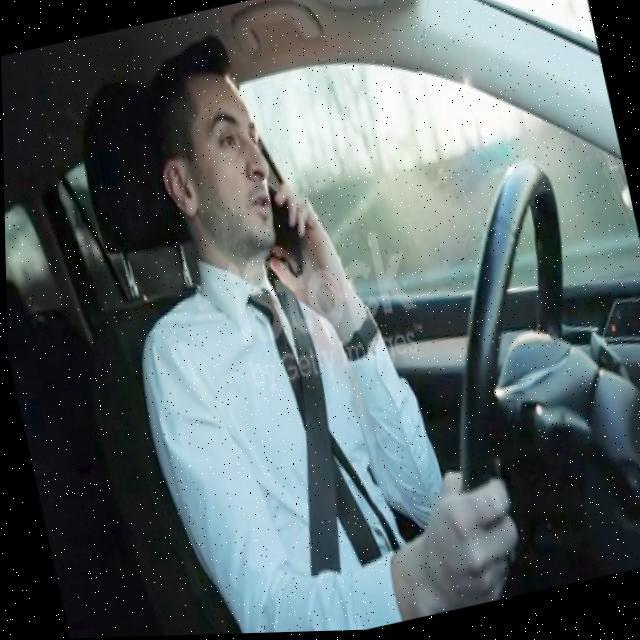PhoneCall: (258, 177, 312, 289)
